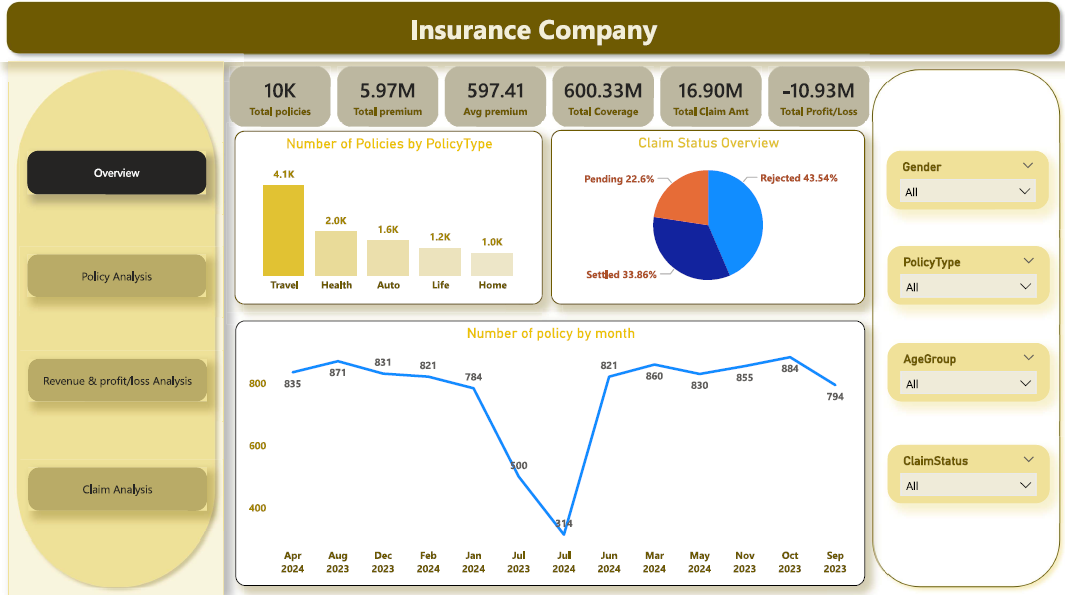

Layout of this report page (visuals, bound fields, positions):
{"tool":"powerbi","page":{"name":"Overview","canvas":[1280,720],"ordinal":0},"visuals":[{"type":"shape","title":"Insurance Company","box":[0,0,1280.3,81],"z":0},{"type":"shape","box":[0,0,1280.3,81],"z":1000},{"type":"shape","box":[11,81,258,639.5],"z":2000},{"type":"shape","box":[1037,80.7,243.3,639.5],"z":3000},{"type":"slicer","fields":{"Values":["insurance insurancedata.Gender"]},"box":[1062.6,188.3,194.4,69.7],"z":4000},{"type":"slicer","fields":{"Values":["insurance insurancedata.PolicyType"]},"box":[1063.9,302,194.4,69.7],"z":5000},{"type":"slicer","fields":{"Values":["insurance insurancedata.AgeGroup"]},"box":[1063.9,418.2,194.4,69.7],"z":6000},{"type":"slicer","fields":{"Values":["insurance insurancedata.ClaimStatus"]},"box":[1063.9,540.5,194.4,69.7],"z":7000},{"type":"cardVisual","fields":{"Data":["insurance insurancedata.Total policies","insurance insurancedata.total premium","insurance insurancedata.Avg premium per policy","insurance insurancedata.Total Coverage Amt","insurance insurancedata.Total Claim Amt","insurance insurancedata.Overall Profit/Loss"]},"box":[259.2,69.7,804.6,106.4],"z":8000},{"type":"pageNavigator","box":[34.2,188.3,214,51.4],"z":9000},{"type":"pageNavigator","box":[34.2,311.8,214,51.4],"z":10000},{"type":"pageNavigator","box":[35.5,436.6,214,51.4],"z":11000},{"type":"pageNavigator","box":[35.5,567.4,214,51.4],"z":12000},{"type":"columnChart","title":"Number of Policies by PolicyType","fields":{"Category":["insurance insurancedata.PolicyType"],"Y":["CountNonNull(insurance insurancedata.policyNumber)"]},"box":[282.5,163.9,368.1,207.9],"z":13000},{"type":"pieChart","title":"Claim Status Overview","fields":{"Y":["CountNonNull(insurance insurancedata.ClaimStatus)"],"Category":["insurance insurancedata.ClaimStatus"]},"box":[661.4,163.3,376,208.6],"z":14000},{"type":"lineChart","title":"Number of policy by month","fields":{"Y":["CountNonNull(insurance insurancedata.policyNumber)"],"Category":["insurance insurancedata.policy","insurance insurancedata.month name"]},"box":[282.7,391.1,754.7,318.4],"z":15000}]}

Visuals, with their boxes in screenshot pixels (x1, y1, x2, y2), scaled from the page's 1280x720 canvas onto the 1065x597 screenshot:
"Insurance Company" shape: (0, 0, 1064, 67)
shape: (0, 0, 1064, 67)
shape: (9, 67, 224, 596)
shape: (863, 67, 1064, 596)
slicer - insurance insurancedata.Gender: (884, 156, 1046, 214)
slicer - insurance insurancedata.PolicyType: (885, 250, 1047, 308)
slicer - insurance insurancedata.AgeGroup: (885, 347, 1047, 405)
slicer - insurance insurancedata.ClaimStatus: (885, 448, 1047, 506)
cardVisual - insurance insurancedata.Total policies x insurance insurancedata.total premium: (216, 58, 885, 146)
pageNavigator: (28, 156, 207, 199)
pageNavigator: (28, 259, 207, 301)
pageNavigator: (30, 362, 208, 405)
pageNavigator: (30, 470, 208, 513)
"Number of Policies by PolicyType" columnChart: (235, 136, 541, 308)
"Claim Status Overview" pieChart: (550, 135, 863, 308)
"Number of policy by month" lineChart: (235, 324, 863, 588)
